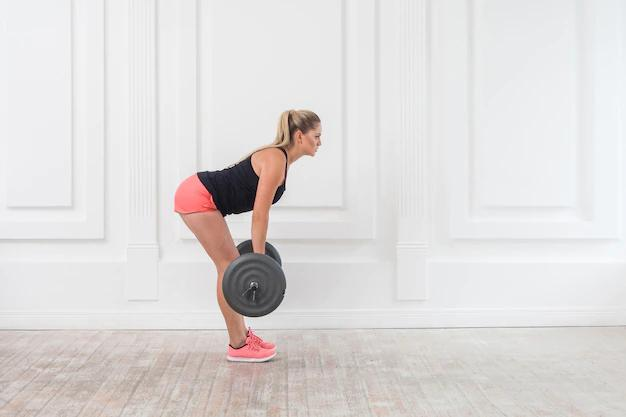Barbell: (251, 284, 260, 295)
